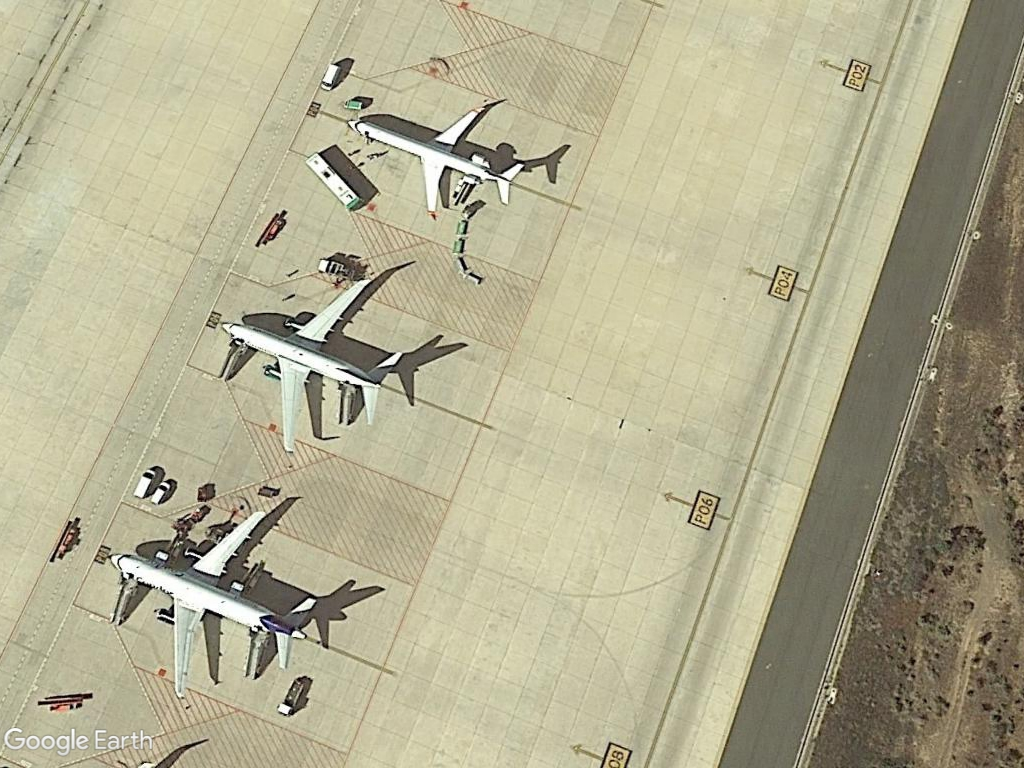airliner: (109, 493, 327, 707), (221, 269, 415, 462)
bus: (301, 148, 366, 212)
chartered: (344, 85, 527, 221)
stairtruck: (209, 336, 248, 385)
